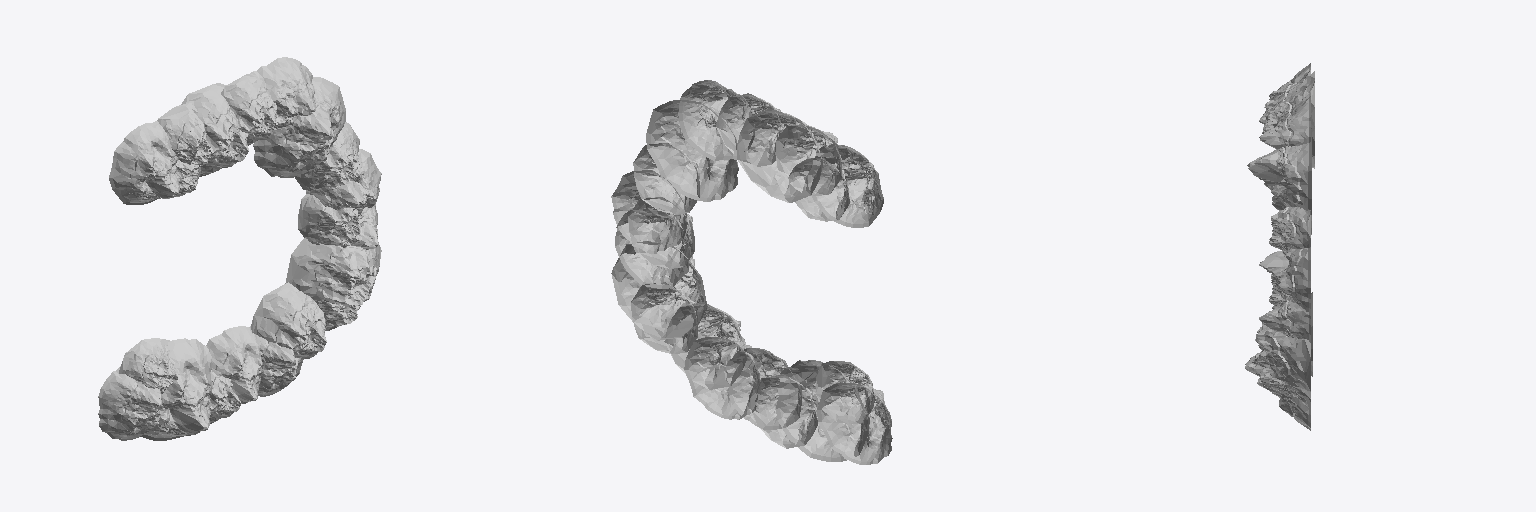
File: forest_moutain_moss.obj
The picture shows the model from 3 angles: view 1: azimuth 30°, elevation 25°; view 2: azimuth 150°, elevation 25°; view 3: azimuth 270°, elevation 25°; orthographic projection.
Parts seen in each view (by area): view 1: PP_Forest_Mountain_Moss_02_10; view 2: PP_Forest_Mountain_Moss_02_10; view 3: PP_Forest_Mountain_Moss_02_10.
Part boxes in pixels (x1,y1,x2,y2): PP_Forest_Mountain_Moss_02_10: (98, 57, 381, 440); PP_Forest_Mountain_Moss_02_10: (611, 80, 892, 464); PP_Forest_Mountain_Moss_02_10: (1245, 63, 1314, 430).
Size of the model in its own units: 0.7621 by 0.9139 by 0.1658.